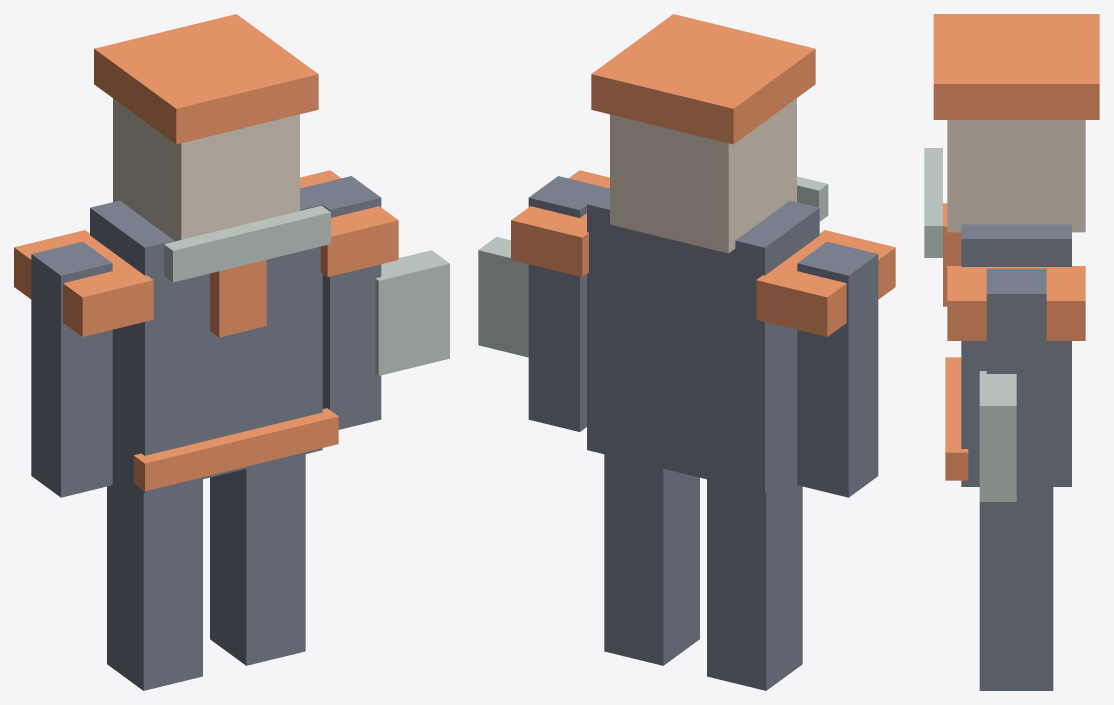
File: 17_dax_emberkin_sentinel_at_climber.glb
The picture shows the model from 3 angles, left to right: view 1: azimuth 30°, elevation 25°; view 2: azimuth 150°, elevation 25°; view 3: azimuth 270°, elevation 25°; orthographic projection.
Visible parts, largest first — view 1: Dax Emberkin, Sentinel at Climber; view 2: Dax Emberkin, Sentinel at Climber; view 3: Dax Emberkin, Sentinel at Climber.
Part boxes in pixels (bbox=[...]): Dax Emberkin, Sentinel at Climber: bbox=[14, 14, 449, 690]; Dax Emberkin, Sentinel at Climber: bbox=[478, 14, 895, 690]; Dax Emberkin, Sentinel at Climber: bbox=[924, 14, 1099, 690].
Bounding box in the file's own units: 1.05 × 1.55 × 0.4094.
